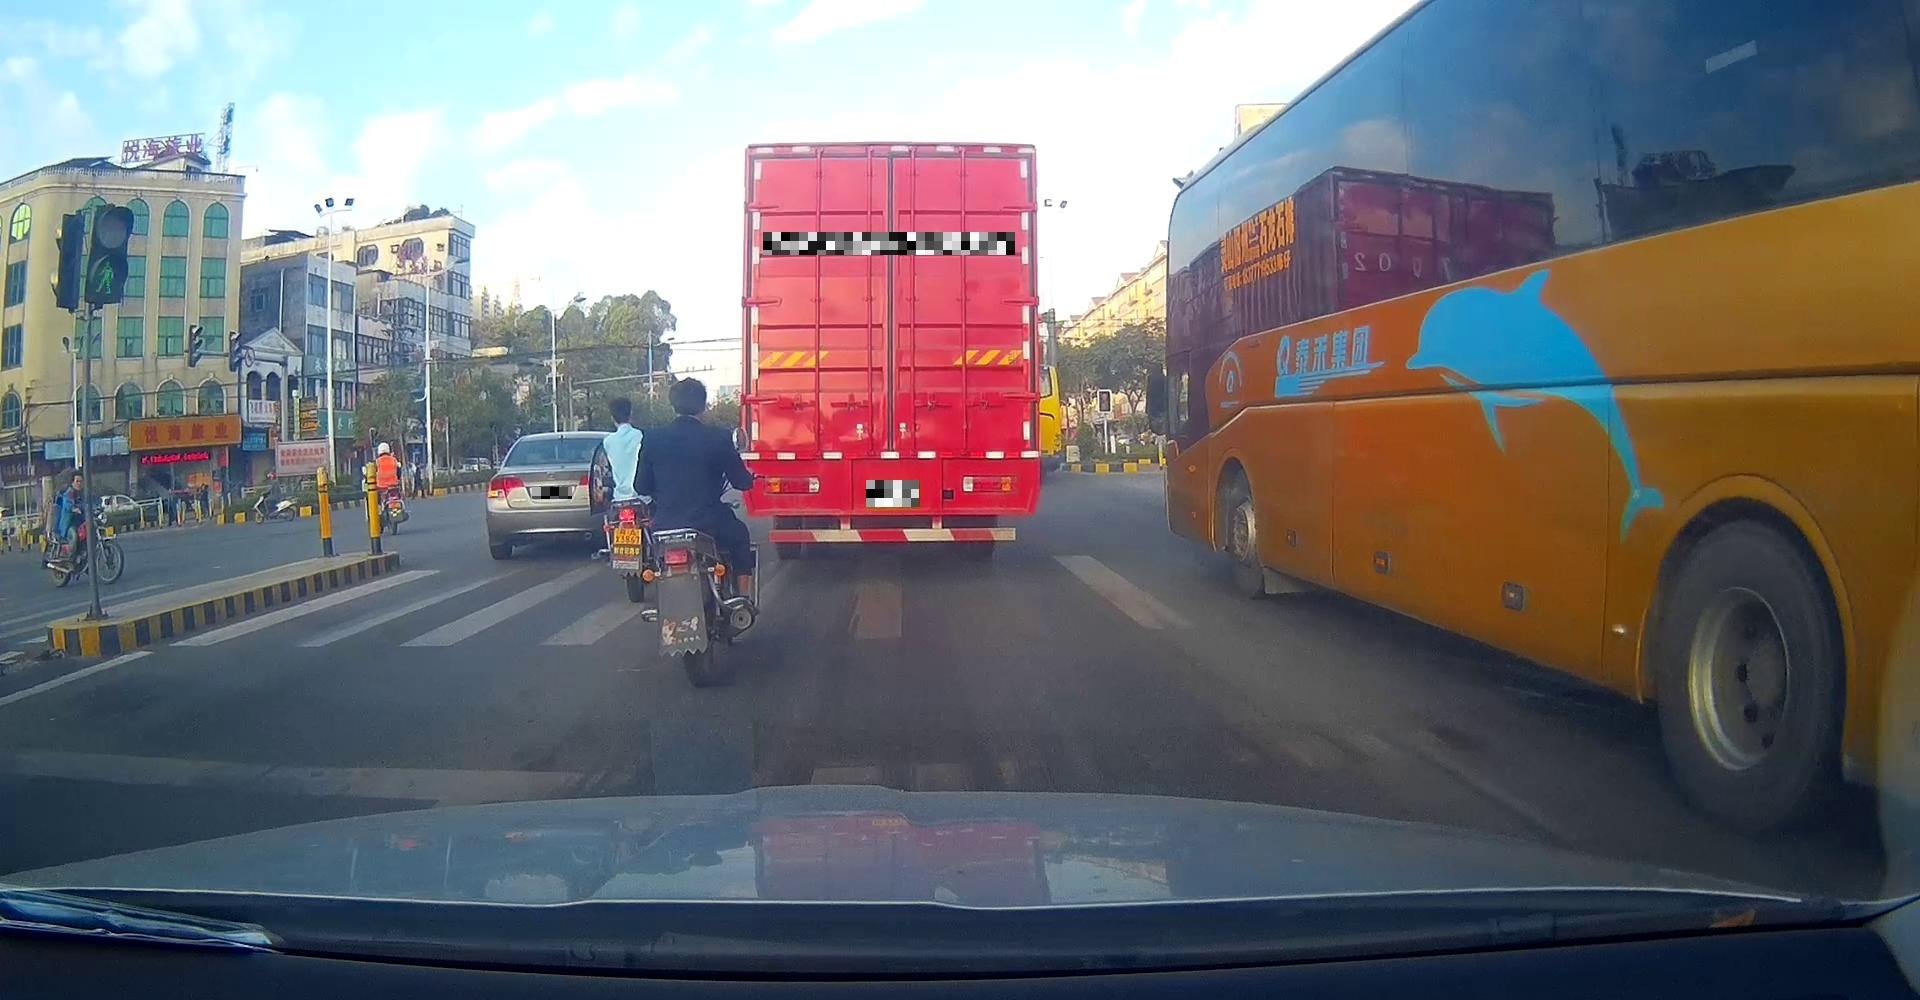L_light: (759, 475, 820, 494), (488, 475, 524, 499)
R_light: (963, 475, 1018, 492), (579, 472, 613, 495)
T_light: (869, 154, 913, 166), (554, 439, 568, 443)
day-left: (485, 431, 618, 560)
day-no: (740, 141, 1041, 557)
plate_1: (532, 487, 571, 499)
plate_2: (763, 232, 1015, 255)
plate_3: (866, 480, 919, 508)
